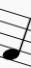note: (2, 6, 31, 67)
